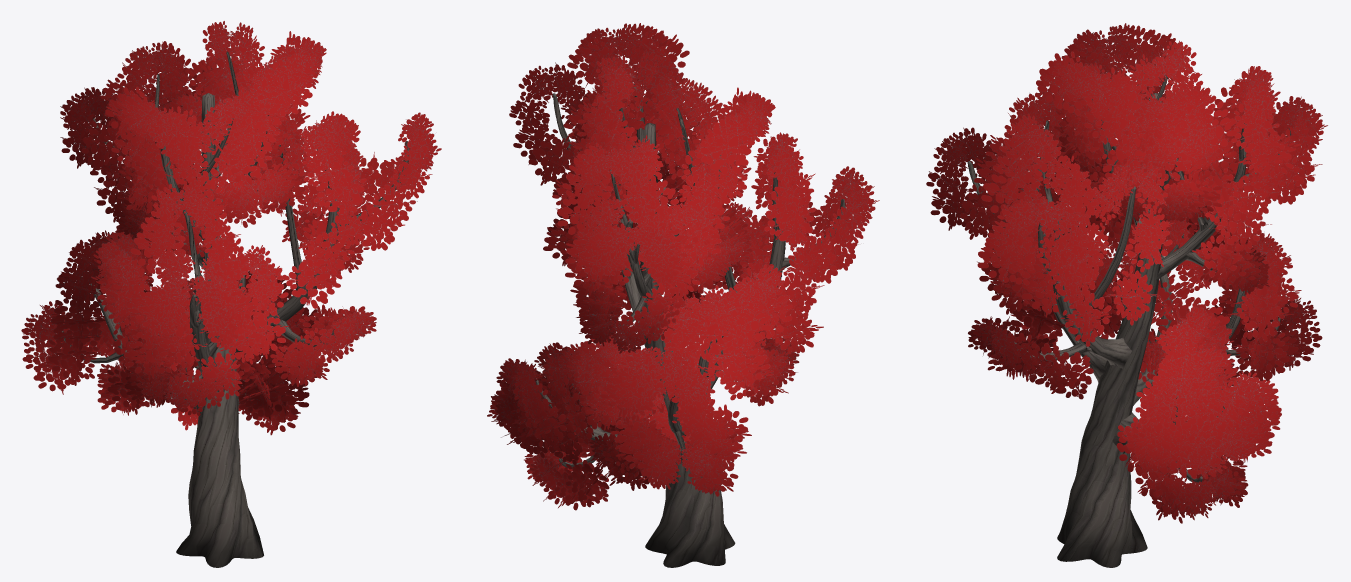
Rendered from tree_twisted_3.glb.
3 views of the same model, side by side, from view 1: azimuth 30°, elevation 25°; view 2: azimuth 150°, elevation 25°; view 3: azimuth 270°, elevation 25° (orthographic). The views are drawn at different scales.
Parts seen in each view (by area): view 1: TwistedTree_3; view 2: TwistedTree_3; view 3: TwistedTree_3.
Part boxes in pixels (x1,y1,x2,y2): TwistedTree_3: [21, 21, 441, 567]; TwistedTree_3: [487, 23, 879, 567]; TwistedTree_3: [926, 23, 1327, 567].
Size of the model in its own units: 11.36 by 16.07 by 11.51.
Materials: 2 (2 with a texture image).
